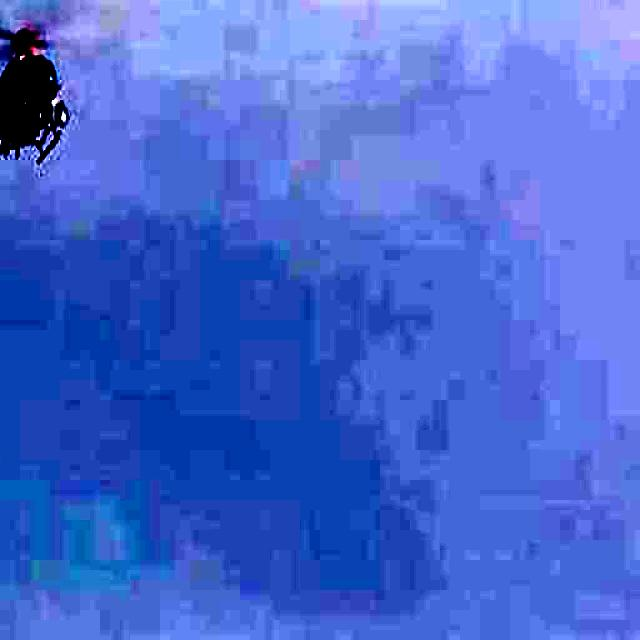drone: (0, 0, 129, 206)
